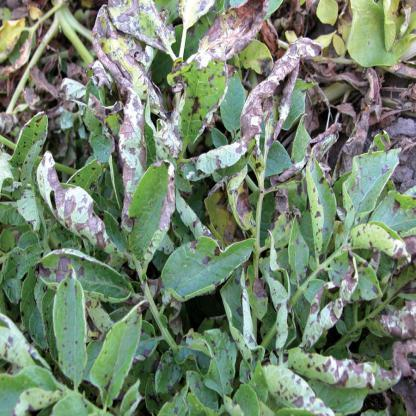Potato leaf late blight: (34, 150, 128, 262), (238, 32, 324, 150), (92, 298, 152, 414), (124, 158, 176, 276), (283, 344, 402, 395), (188, 0, 274, 70), (301, 249, 360, 349), (108, 0, 180, 64), (272, 121, 344, 184), (52, 266, 89, 384), (338, 66, 380, 168), (261, 362, 330, 416), (364, 306, 416, 341)
